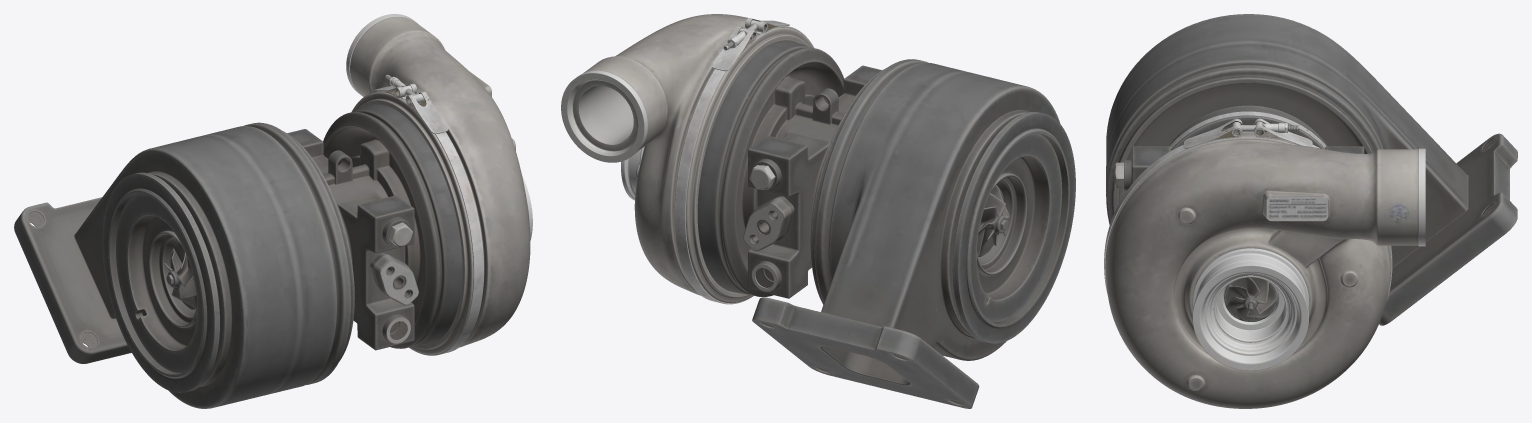
The model's file is engineComponent_turbocompressor_a01.glb.
The picture shows the model from 3 angles, left to right: view 1: azimuth 30°, elevation 25°; view 2: azimuth 150°, elevation 25°; view 3: azimuth 270°, elevation 25°; orthographic projection. The views are drawn at different scales.
Visible parts, largest first — view 1: body_01_mesh_00, turbine_02_mesh_00; view 2: body_01_mesh_00, turbine_02_mesh_00; view 3: body_01_mesh_00, turbine_01_mesh_00.
Part boxes in pixels (x1=…): body_01_mesh_00: x1=14, y1=14, x2=532, y2=408; turbine_02_mesh_00: x1=164, y1=242, x2=196, y2=310; body_01_mesh_00: x1=561, y1=14, x2=1075, y2=408; turbine_02_mesh_00: x1=977, y1=185, x2=1009, y2=256; body_01_mesh_00: x1=1104, y1=14, x2=1517, y2=408; turbine_01_mesh_00: x1=1224, y1=277, x2=1277, y2=321.
Bounding box in the file's own units: 0.4914 × 0.3205 × 0.4428.
Materials: 1 (1 with a texture image).
